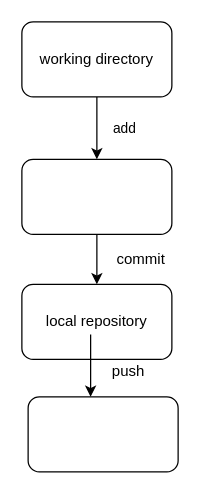
This 200x494 diagram has some shape labels left out. Each missing label, with the centre of its shape:
github(central repo): (x=102, y=434)
staging area: (x=96, y=196)
